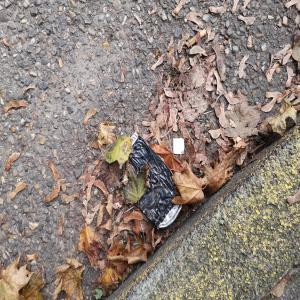Can: (117, 131, 187, 232)
